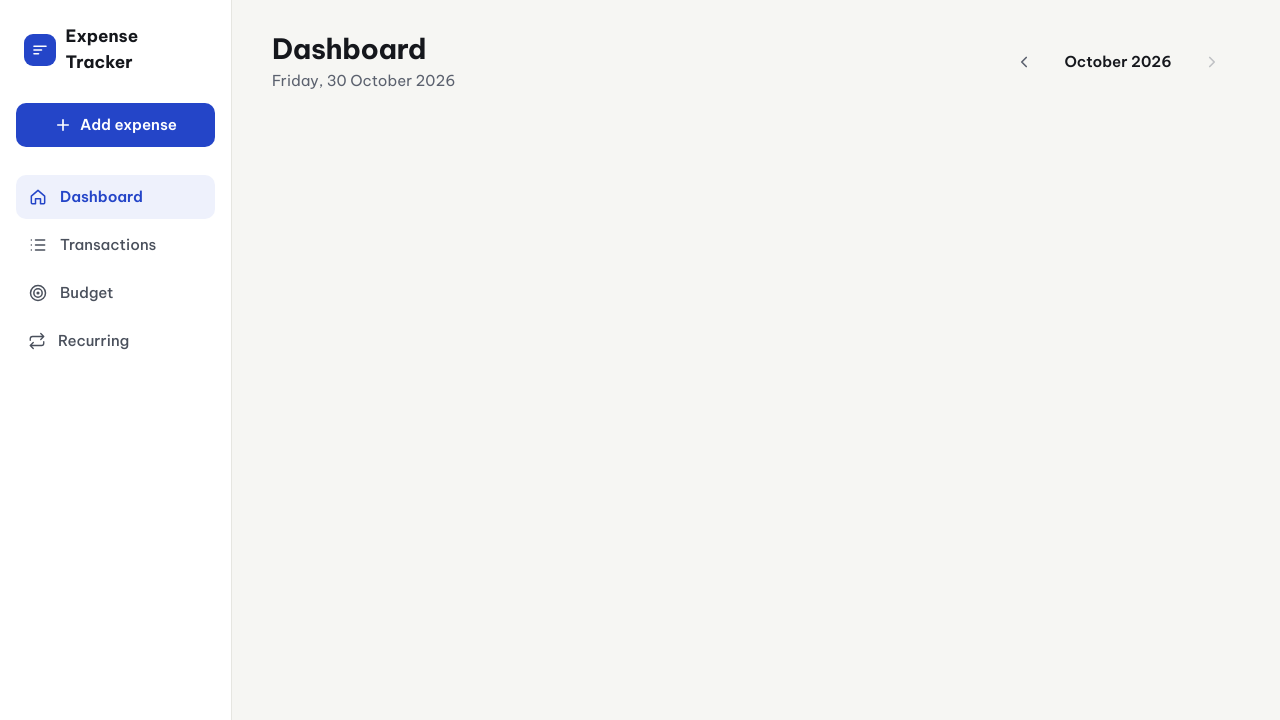
Test case: save with the over-budget check › starts the before lookup ahead of an edit write
This screenshot has width=1280, height=720.
Click the button "Transactions" at {"x": 116, "y": 245}, box [16, 223, 215, 267]
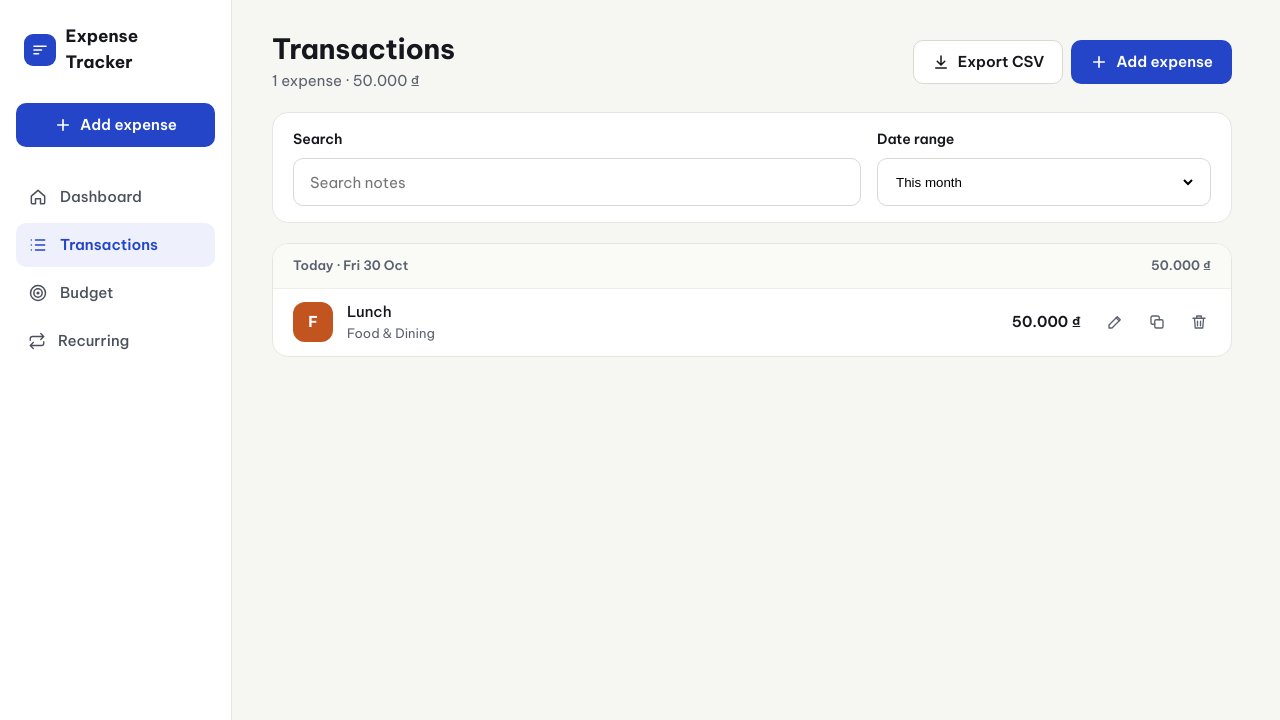
Check: the button named "Edit Lunch" is shown
Click the button named "Edit Lunch" at {"x": 1115, "y": 322}, box [1095, 302, 1135, 342]
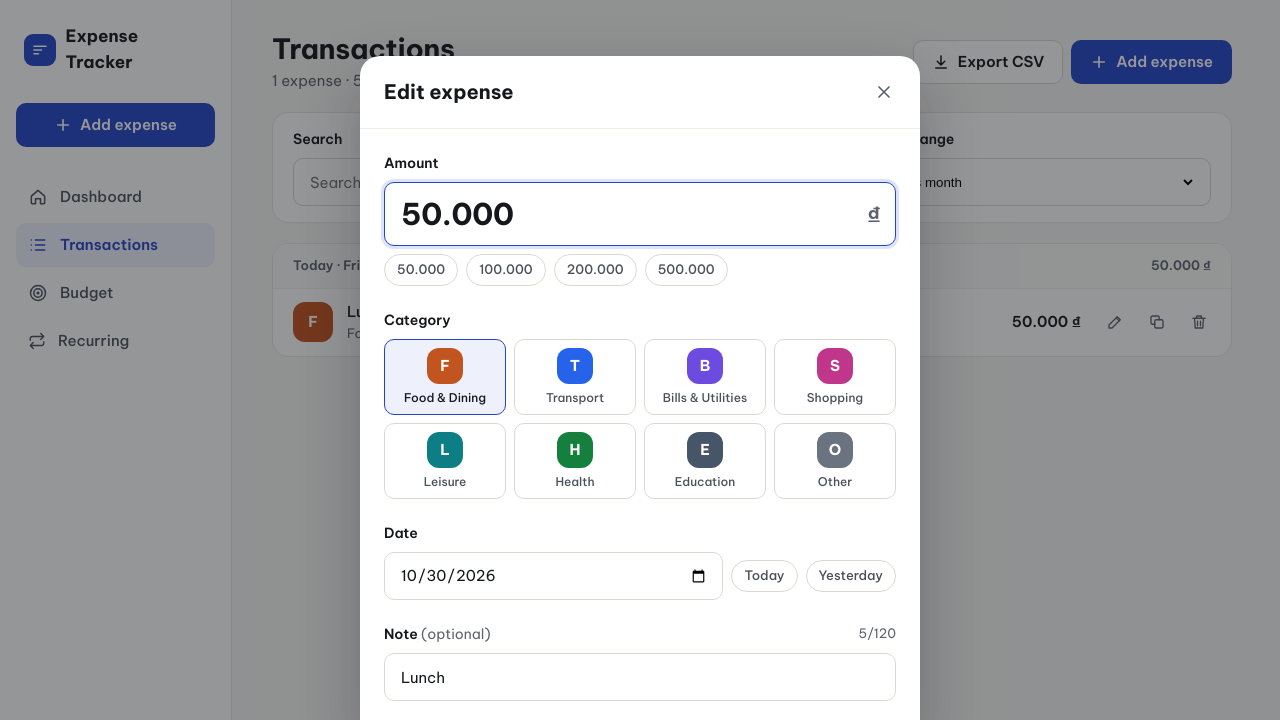
Replace the text in the field labelled "Amount" with "200000" at {"x": 628, "y": 214}, box [399, 183, 857, 245]
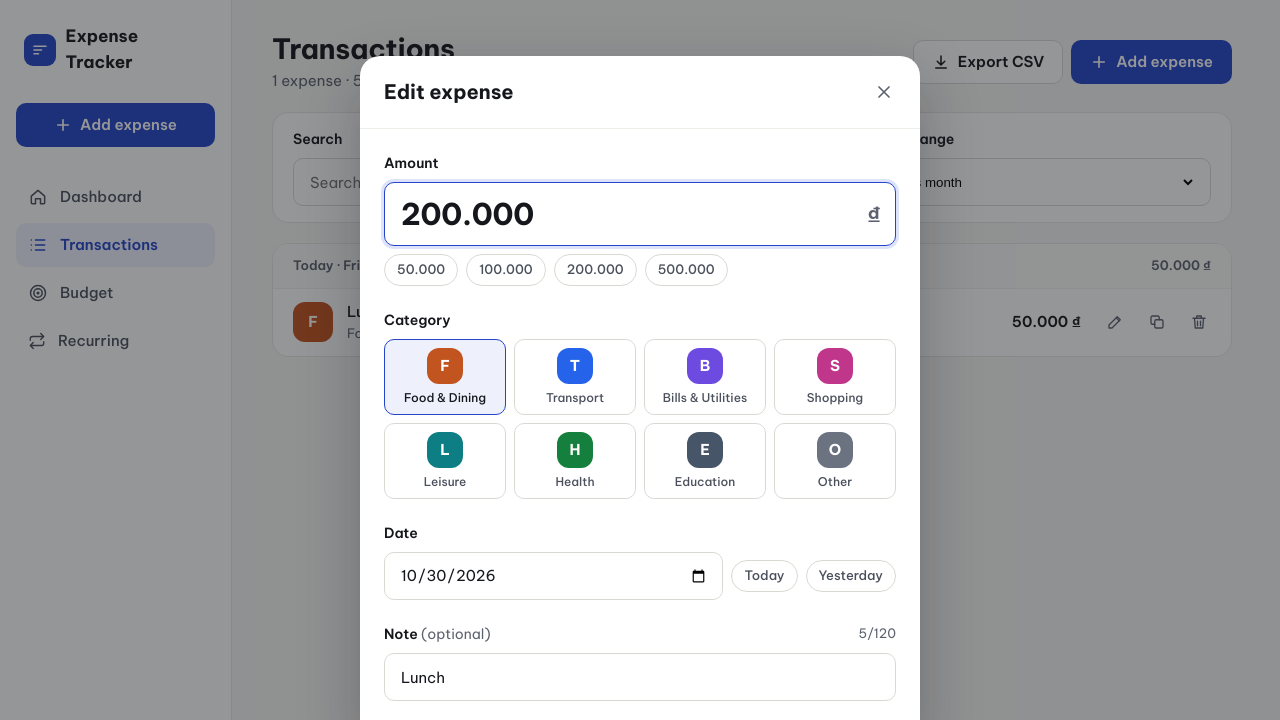
Click the button "F Food & Dining" at {"x": 445, "y": 377}, box [384, 339, 506, 415]
(page scrolled)
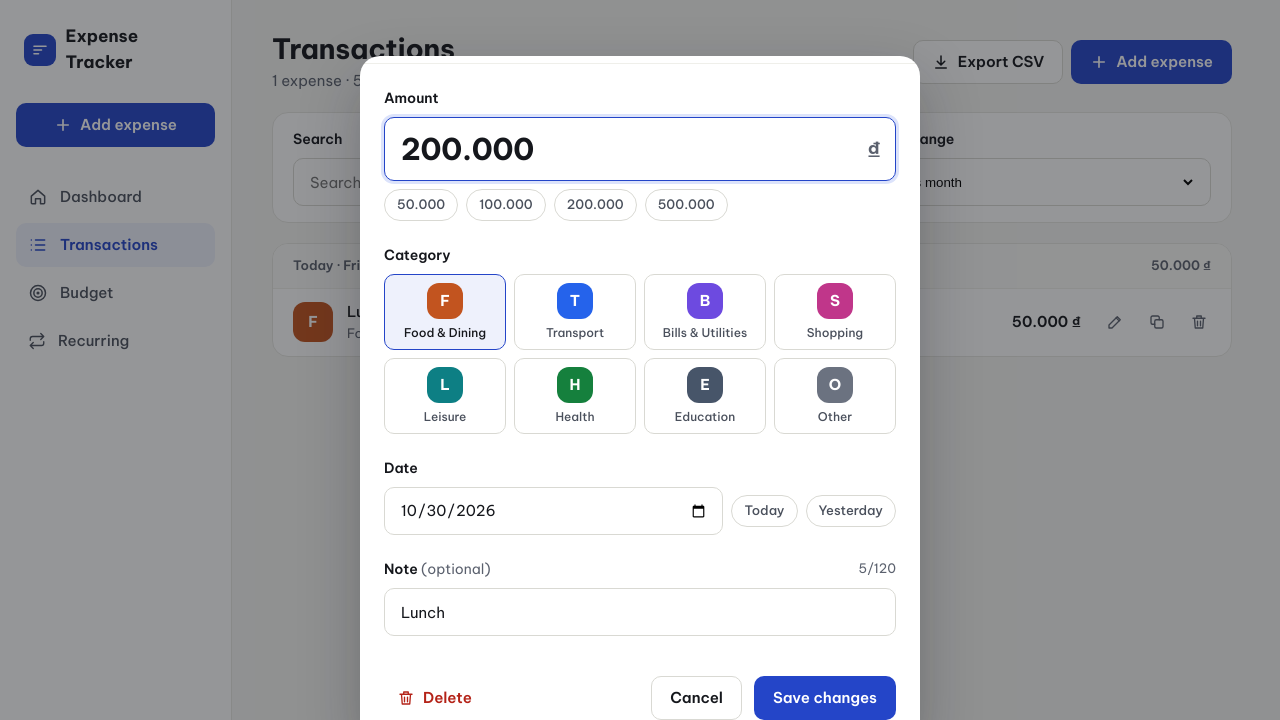
Click the button "Save changes" at {"x": 825, "y": 698}, box [754, 676, 896, 719]
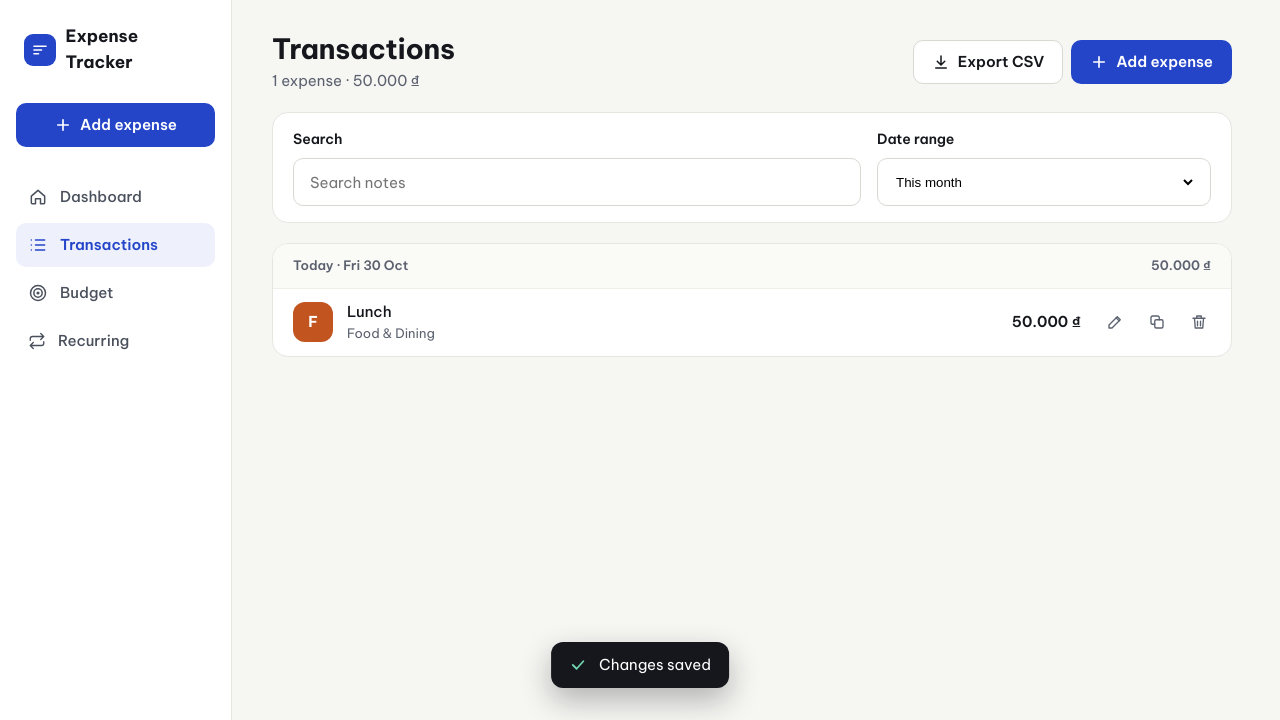
Check: the text "Changes saved" is shown, box [599, 654, 711, 676]
